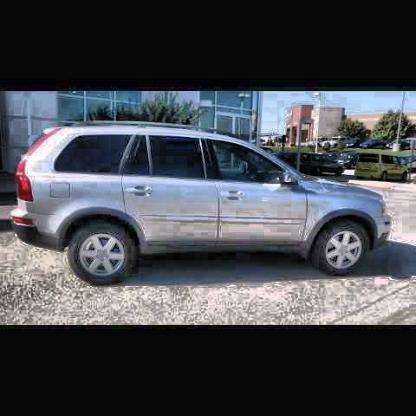Volvo XC90 SUV 2007: (14, 125, 397, 287)
